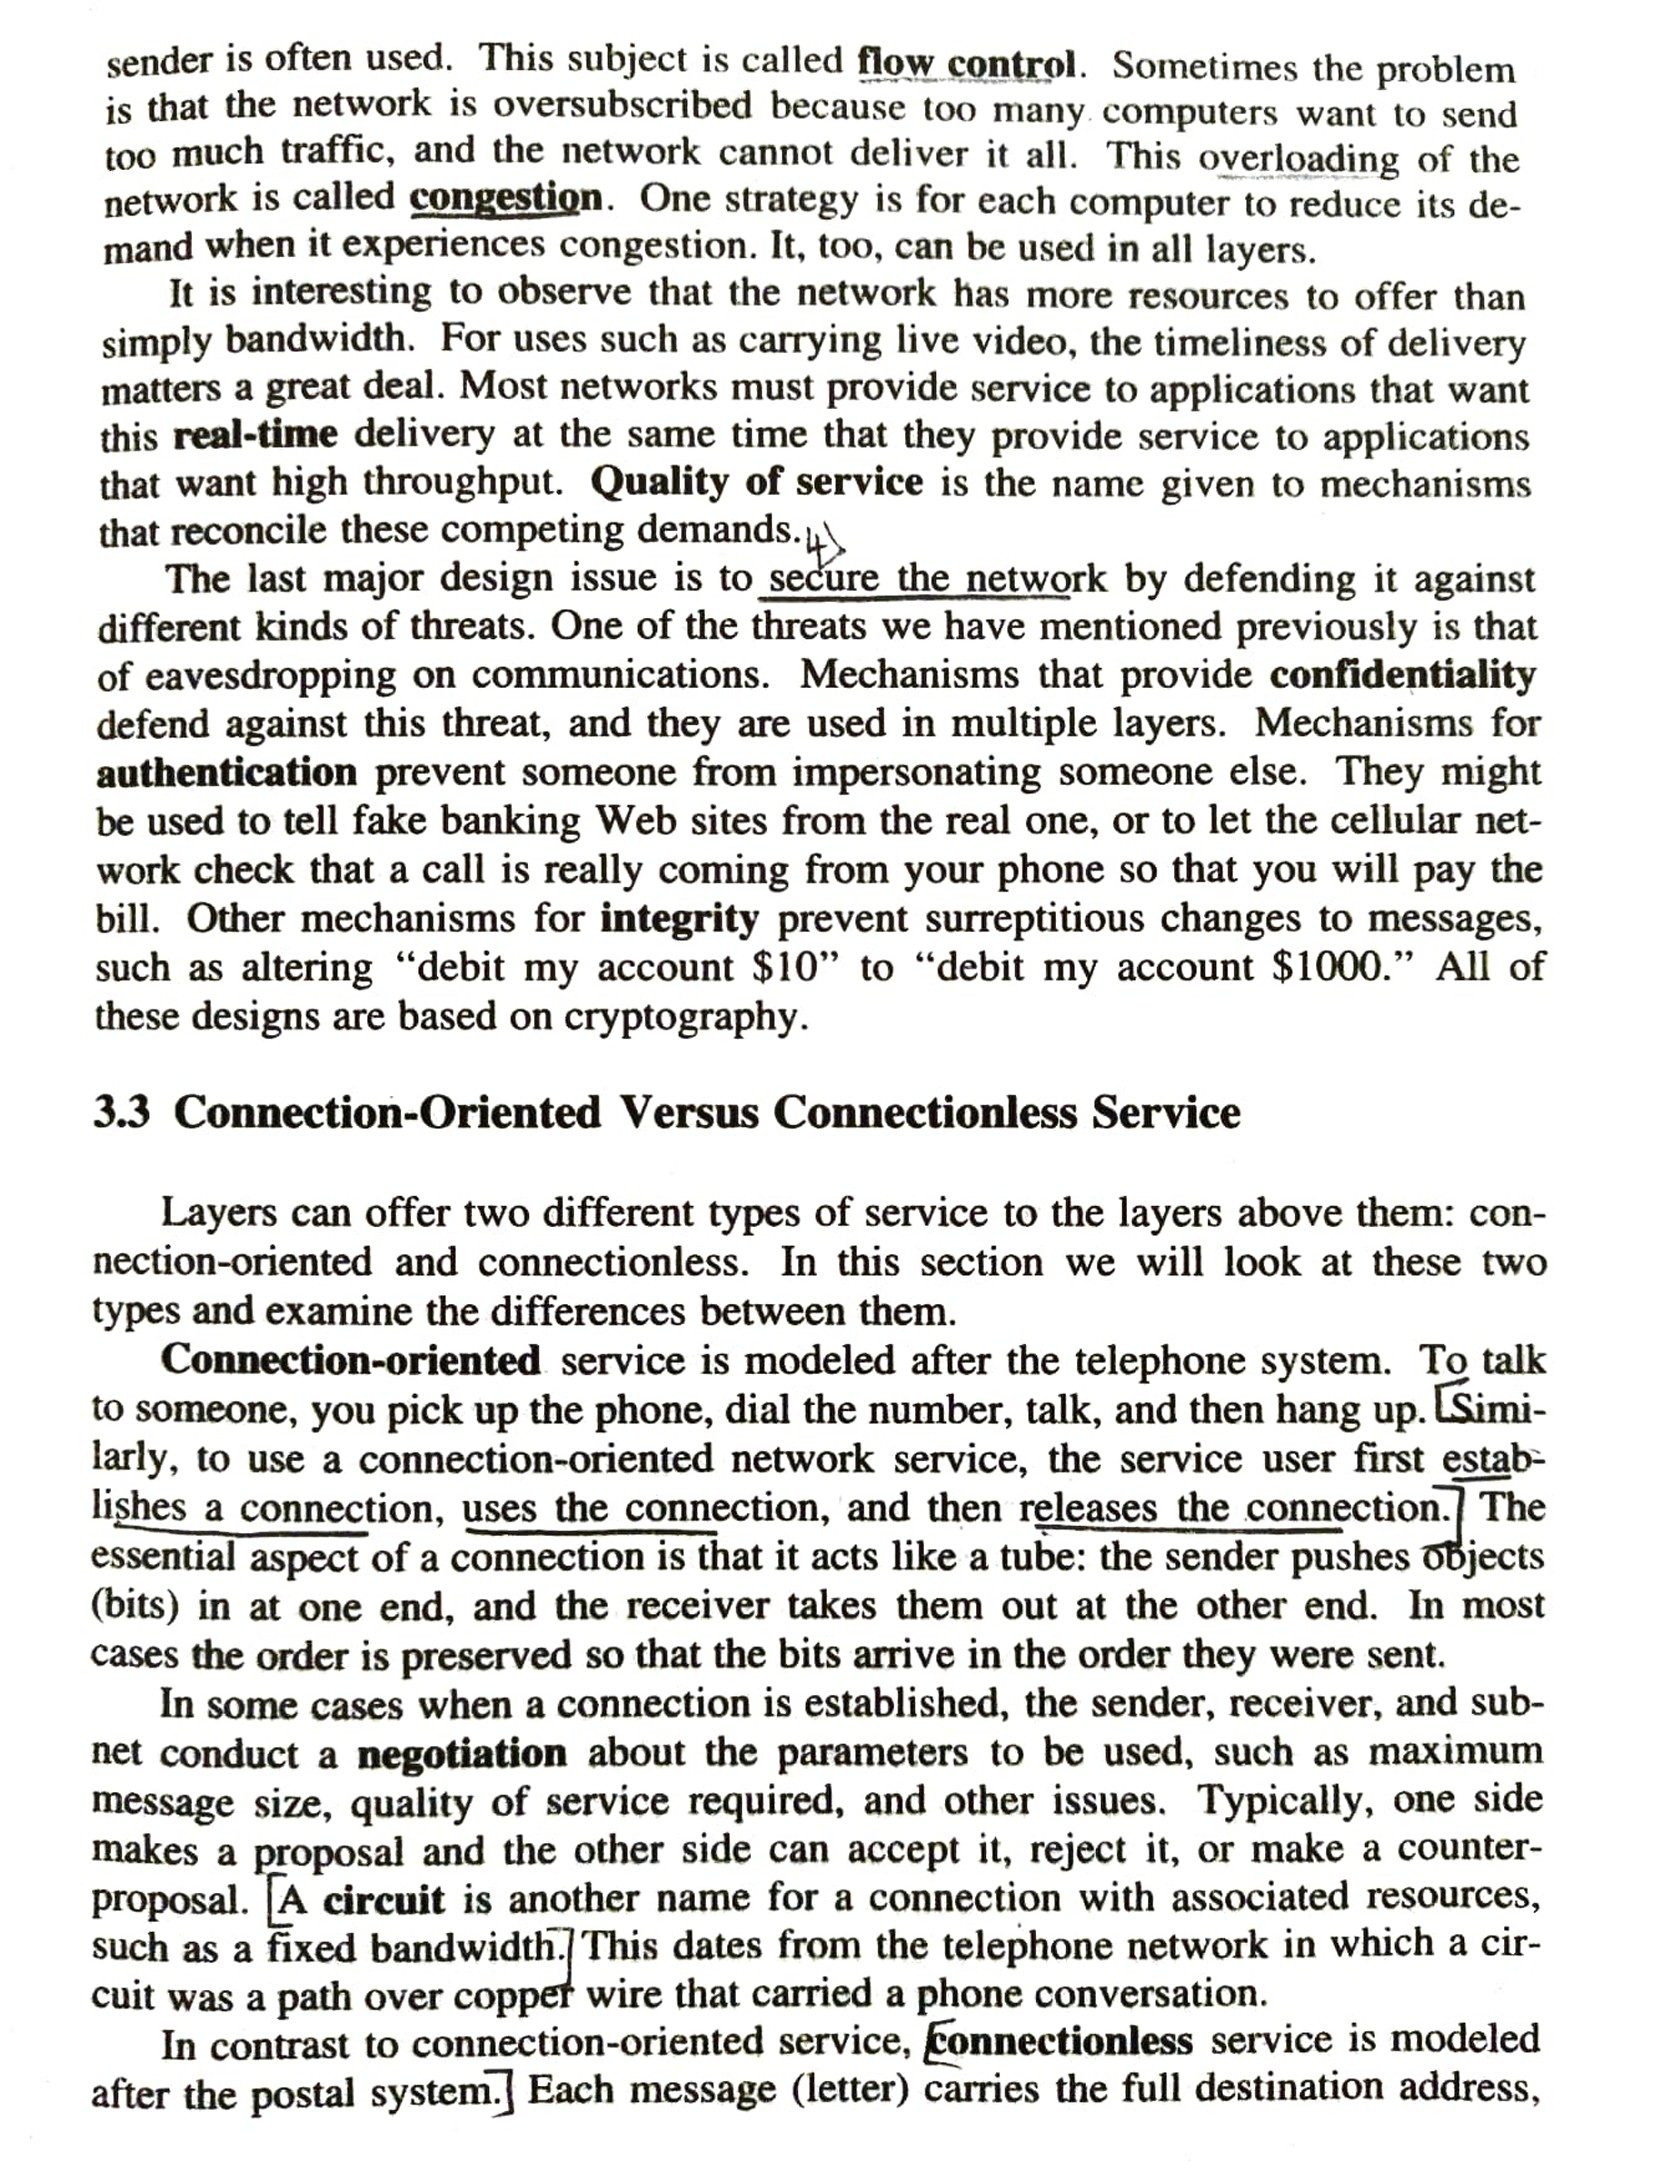BB1: (73, 33, 1604, 553)
BB2: (73, 546, 1600, 1053)
BB3: (63, 1183, 1590, 1679)
BB4: (63, 1677, 1604, 2127)
